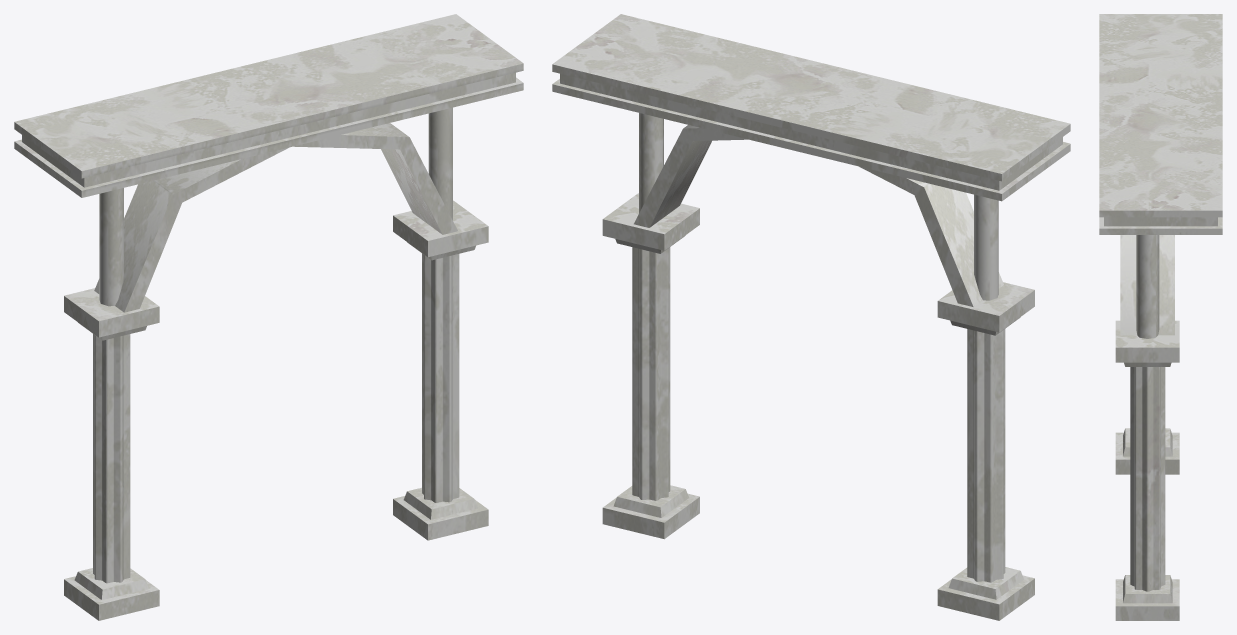
The model's file is SM_Arch.fbx.
3 renders of one model, left to right at view 1: azimuth 30°, elevation 25°; view 2: azimuth 150°, elevation 25°; view 3: azimuth 270°, elevation 25°, orthographic. The views are drawn at different scales.
Visible parts, largest first — view 1: SM_Arch; view 2: SM_Arch; view 3: SM_Arch.
Boxes of the visible parts, x1=… form: SM_Arch: x1=14, y1=14, x2=523, y2=620; SM_Arch: x1=552, y1=14, x2=1070, y2=620; SM_Arch: x1=1099, y1=14, x2=1222, y2=620.
Size of the model in its own units: 99.42 by 26.33 by 99.44.
